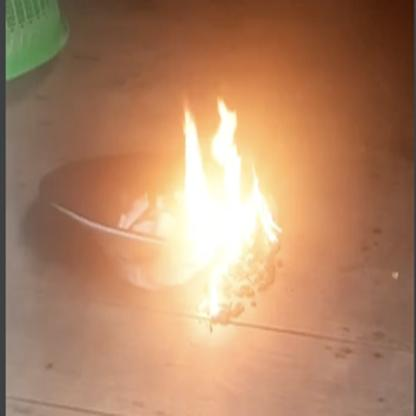fire: (182, 90, 281, 324)
